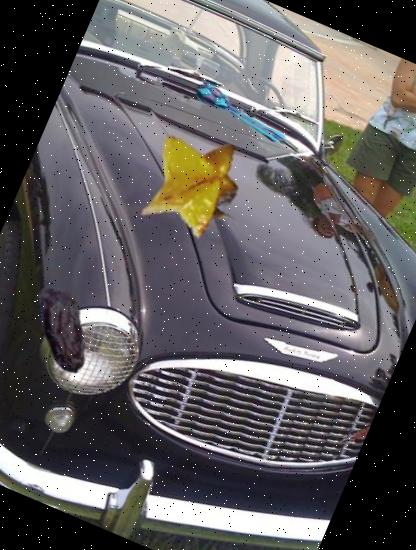Carambula: (121, 112, 269, 260)
Dates: (4, 270, 122, 389)
